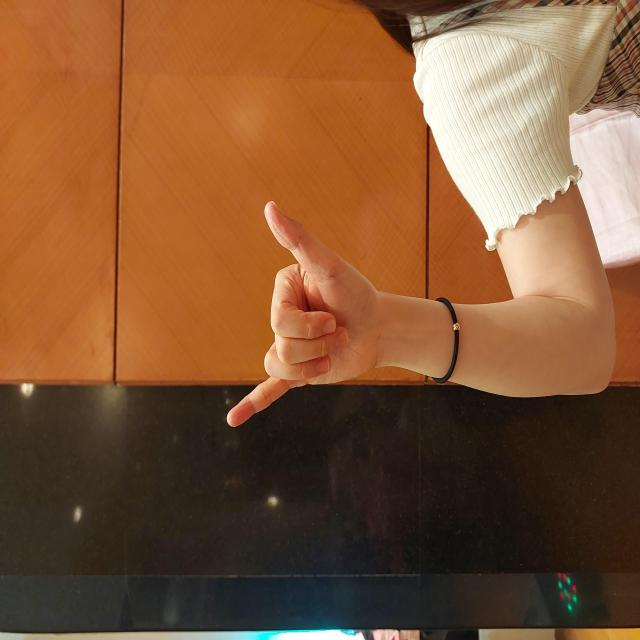Y: (210, 225, 442, 392)
